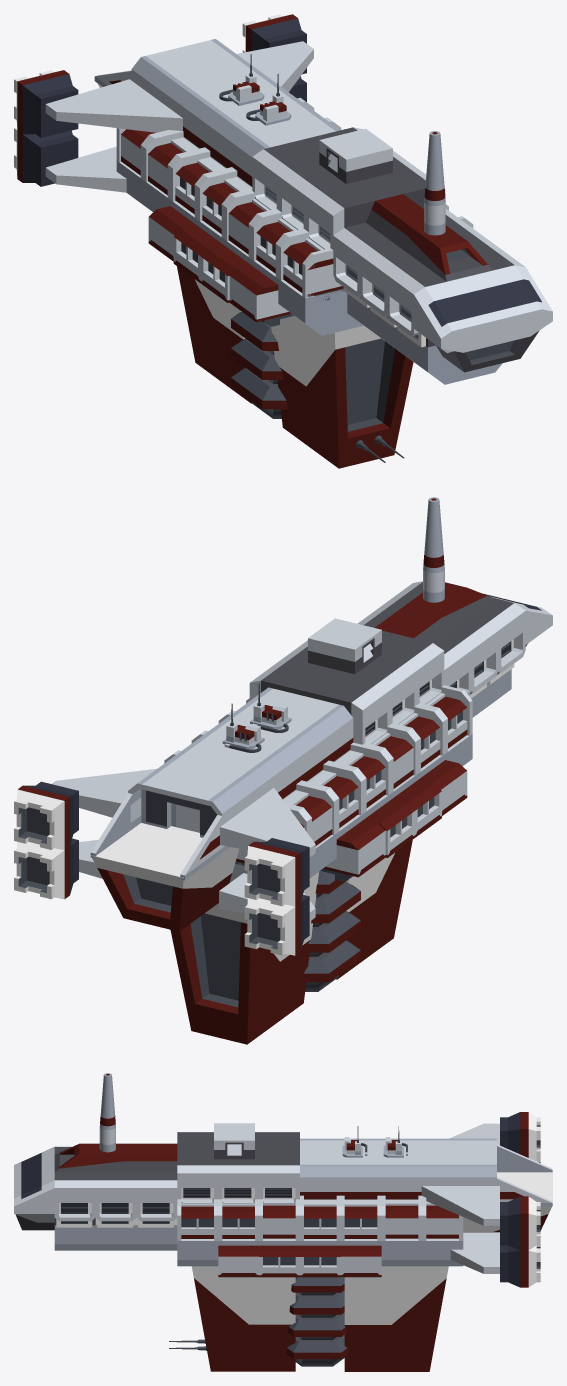
The model's file is cargo_lourd_2.glb.
The picture shows the model from 3 angles, top to bottom: view 1: azimuth 30°, elevation 25°; view 2: azimuth 150°, elevation 25°; view 3: azimuth 270°, elevation 25°; orthographic projection. The views are drawn at different scales.
Visible parts, largest first — view 1: mergedBlocks(Clone); view 2: mergedBlocks(Clone); view 3: mergedBlocks(Clone).
Part boxes in pixels (x1=…): mergedBlocks(Clone): x1=14, y1=14, x2=552, y2=468; mergedBlocks(Clone): x1=14, y1=497, x2=552, y2=1044; mergedBlocks(Clone): x1=14, y1=1073, x2=552, y2=1371.
Size of the model in its own units: 5.9 by 7.74 by 13.2.
1 material, 1 textured.
